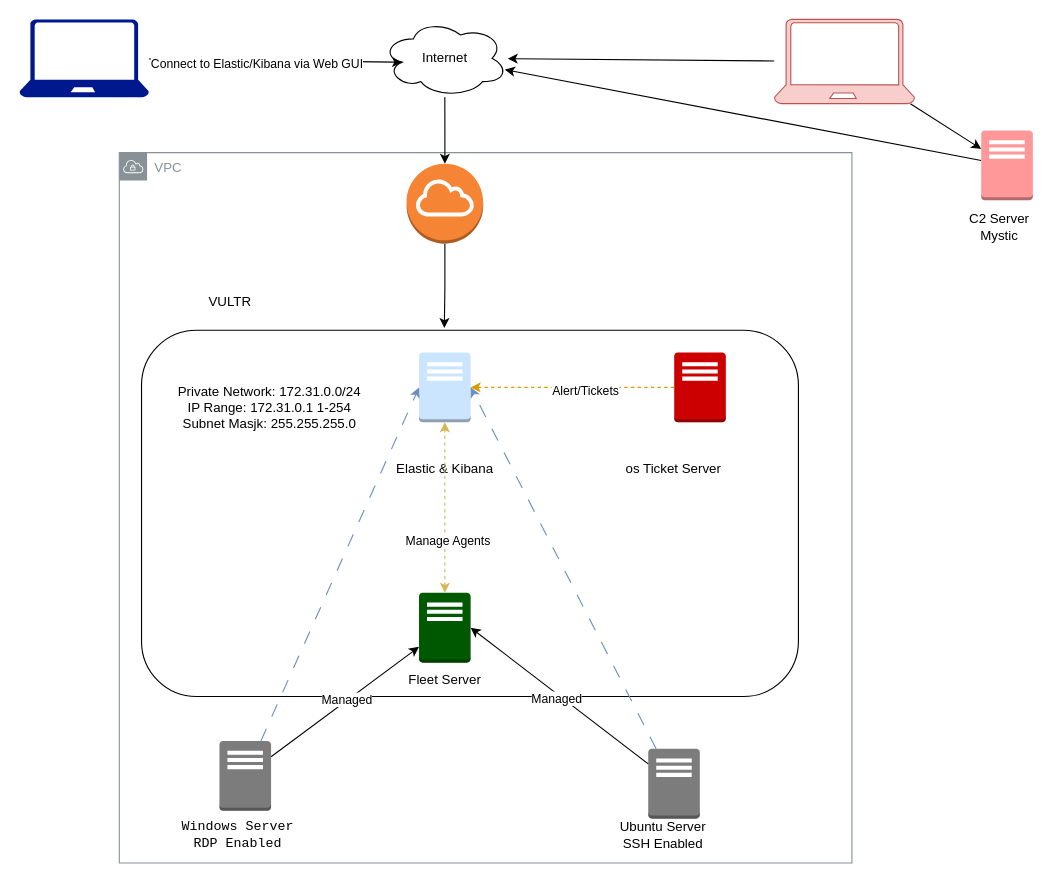
Some shapes in this 1052 by 884 pixel diagram are drawn without their labels. Here are the shapes that lost their labels. From the top down, the box of each, then its label:
(19, 19, 148, 97): SOC Analyst Laptop
(773, 18, 915, 104): Attacker PC
